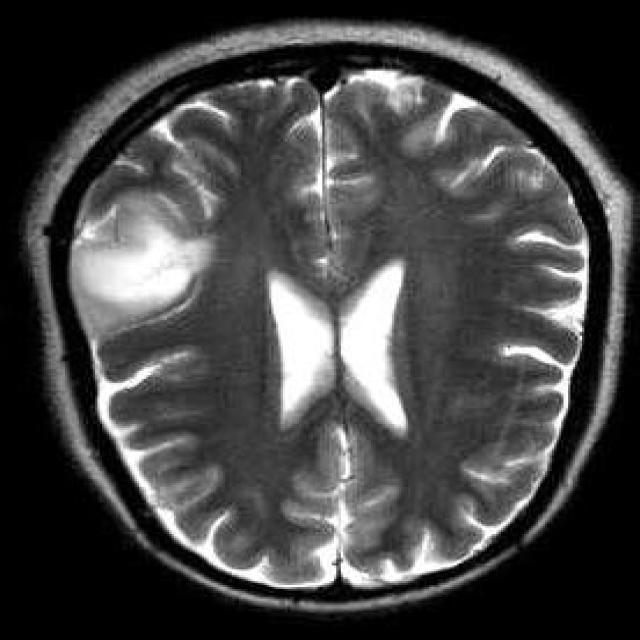notumor: (26, 22, 633, 614)
